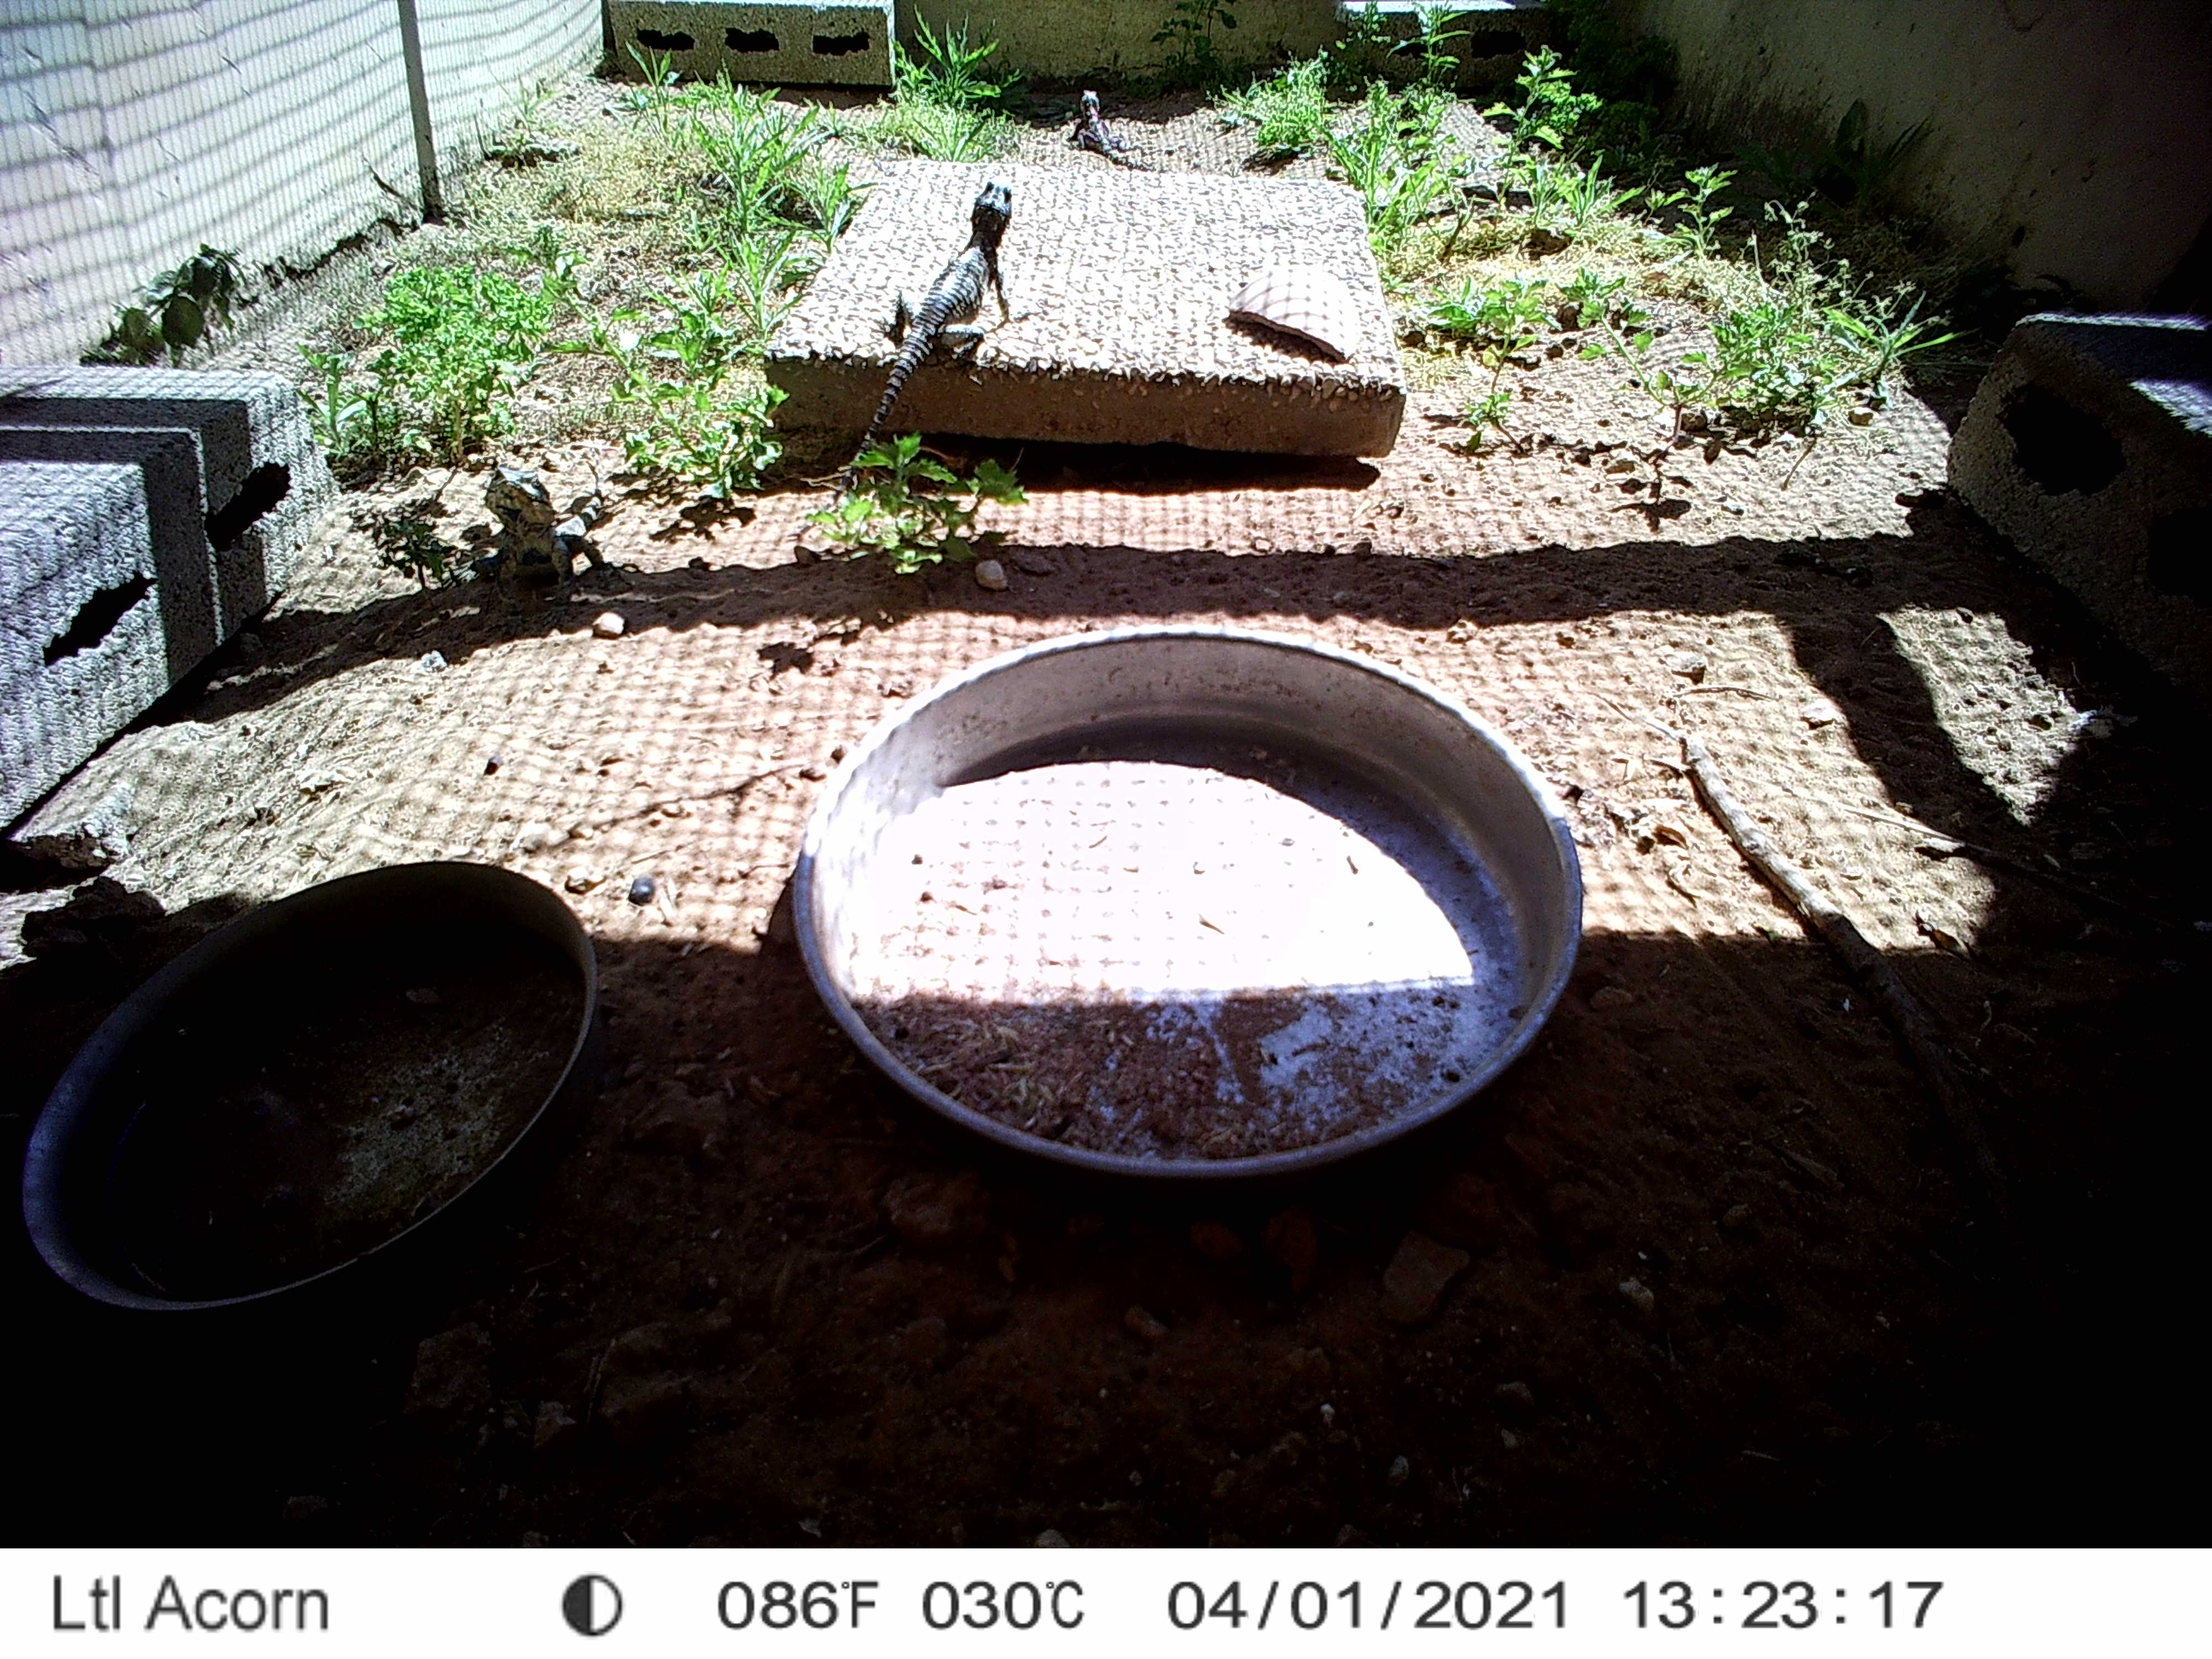lizard: (841, 179, 1026, 488), (481, 455, 622, 601), (1069, 87, 1157, 169)
